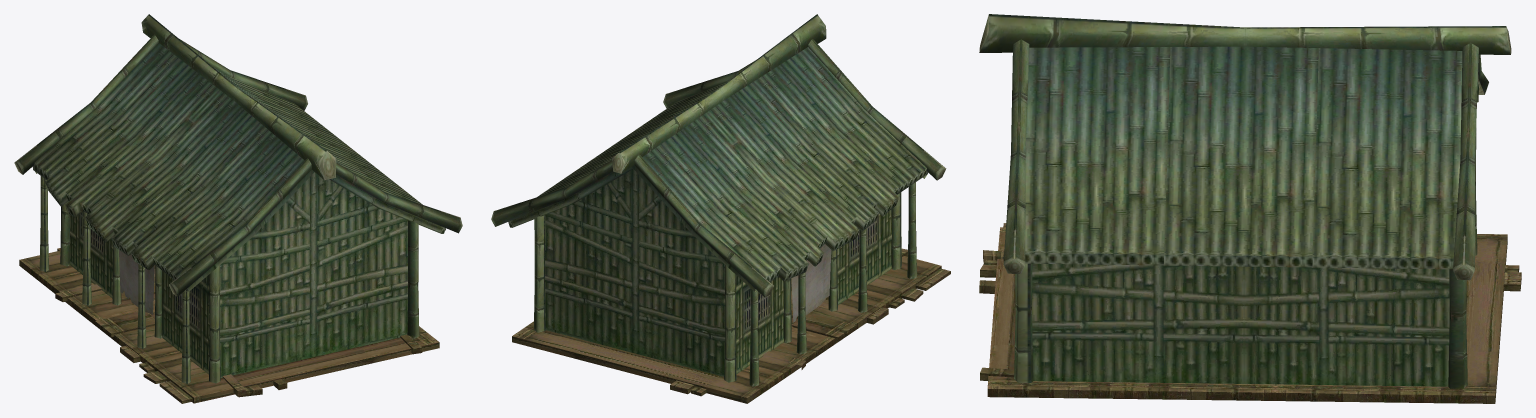
3 renders of one model, left to right at view 1: azimuth 30°, elevation 25°; view 2: azimuth 150°, elevation 25°; view 3: azimuth 270°, elevation 25°, orthographic. The views are drawn at different scales.
Parts seen in each view (by area): view 1: Mesh_polySurface1007Shape3; view 2: Mesh_polySurface1007Shape3; view 3: Mesh_polySurface1007Shape3.
Part boxes in pixels (x1,y1,x2,y2): Mesh_polySurface1007Shape3: (14,14,462,403); Mesh_polySurface1007Shape3: (491,14,950,403); Mesh_polySurface1007Shape3: (979,14,1521,403).
Size of the model in its own units: 24.41 by 17.9 by 28.45.
